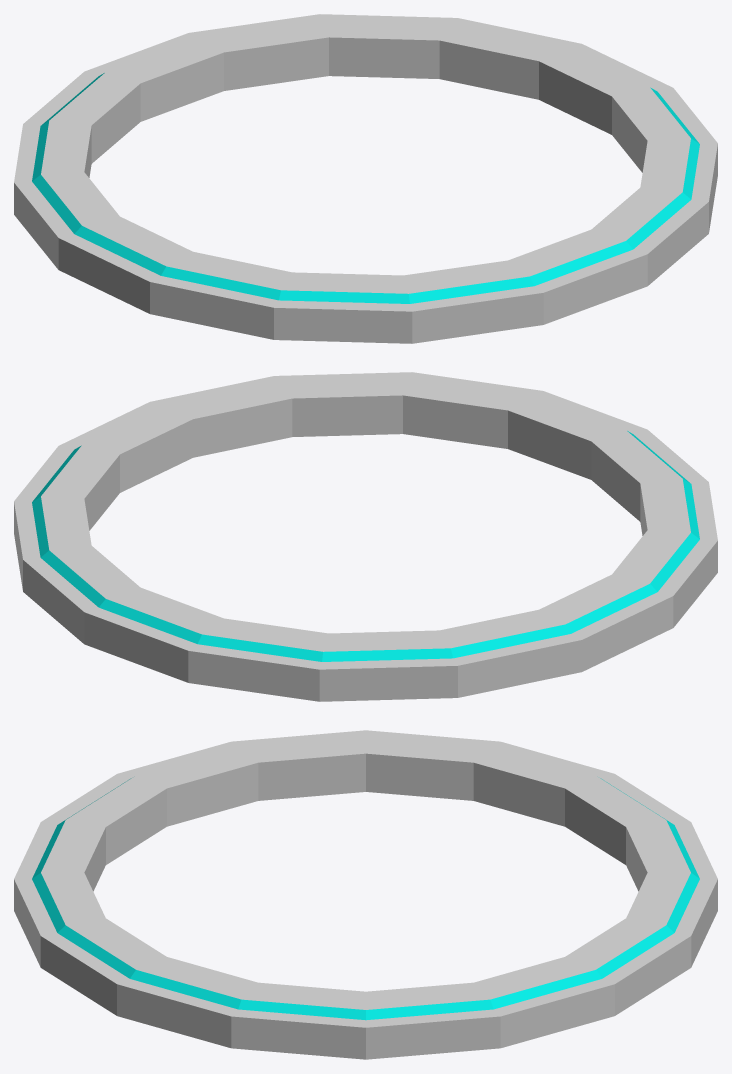
The model's file is test-cylinder-game.fbx.
3 views of the same model, one above another, from view 1: azimuth 30°, elevation 25°; view 2: azimuth 150°, elevation 25°; view 3: azimuth 270°, elevation 25° (orthographic).
Visible parts, largest first — view 1: Cylinder; view 2: Cylinder; view 3: Cylinder.
Boxes of the visible parts, left/top/right/bottom form: Cylinder: left=14, top=14, right=717, bottom=343; Cylinder: left=14, top=372, right=717, bottom=701; Cylinder: left=14, top=730, right=717, bottom=1059.
Bounding box in the file's own units: 400 × 24 × 400.
